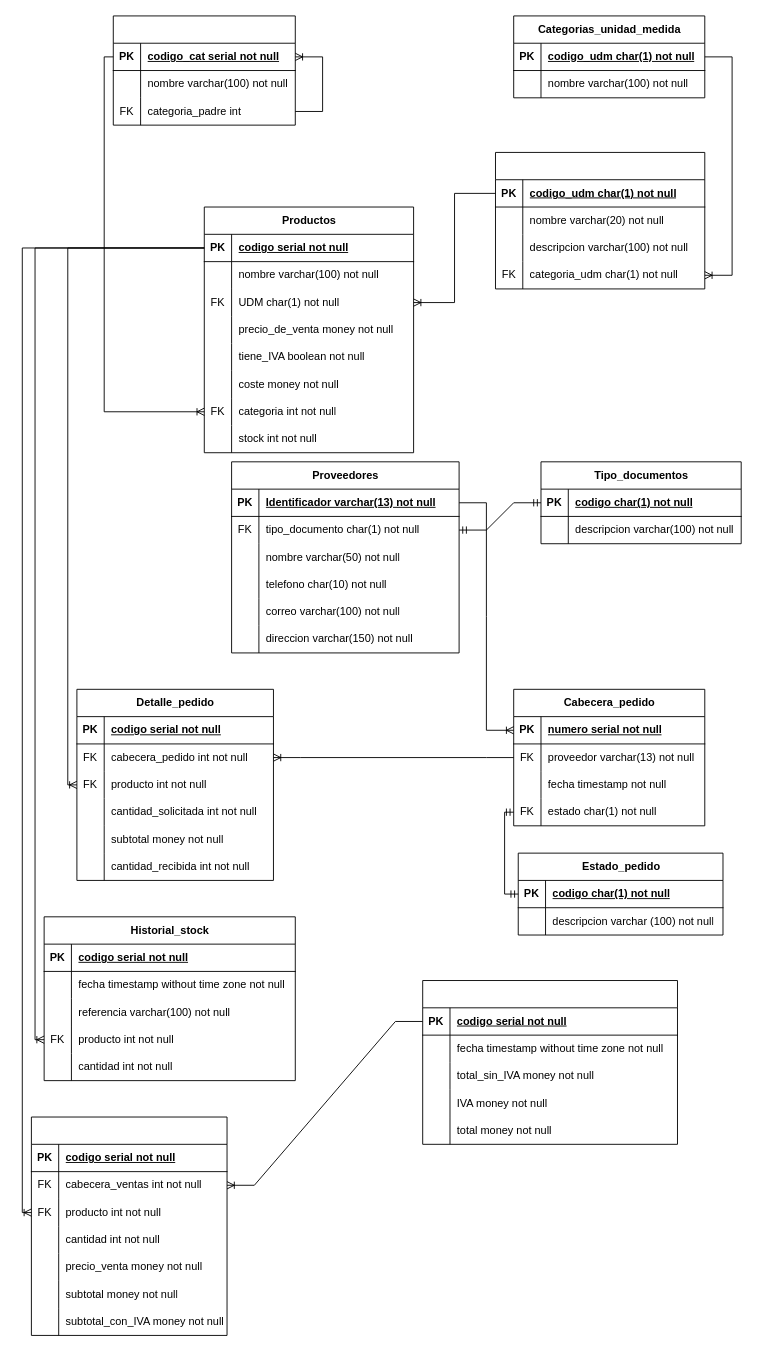
Image size: 757x1351. Some labels were removed from this diagram. The box of each missing label's shape, as (x1, y1, x2, y2) in pixels:
Cabecera_ventas: (422, 980, 677, 1144)
Categorias: (112, 15, 295, 125)
Detalle_ventas: (30, 1116, 227, 1335)
Unidades_medida: (495, 152, 705, 289)
